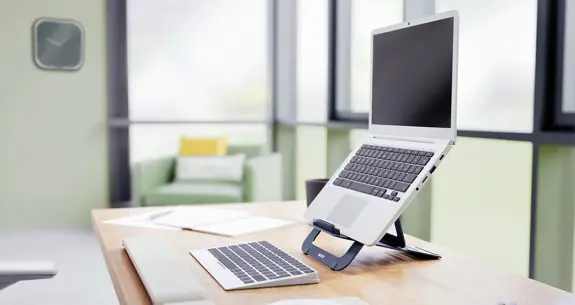not a gesture sign: (127, 0, 269, 119), (33, 17, 87, 70)
